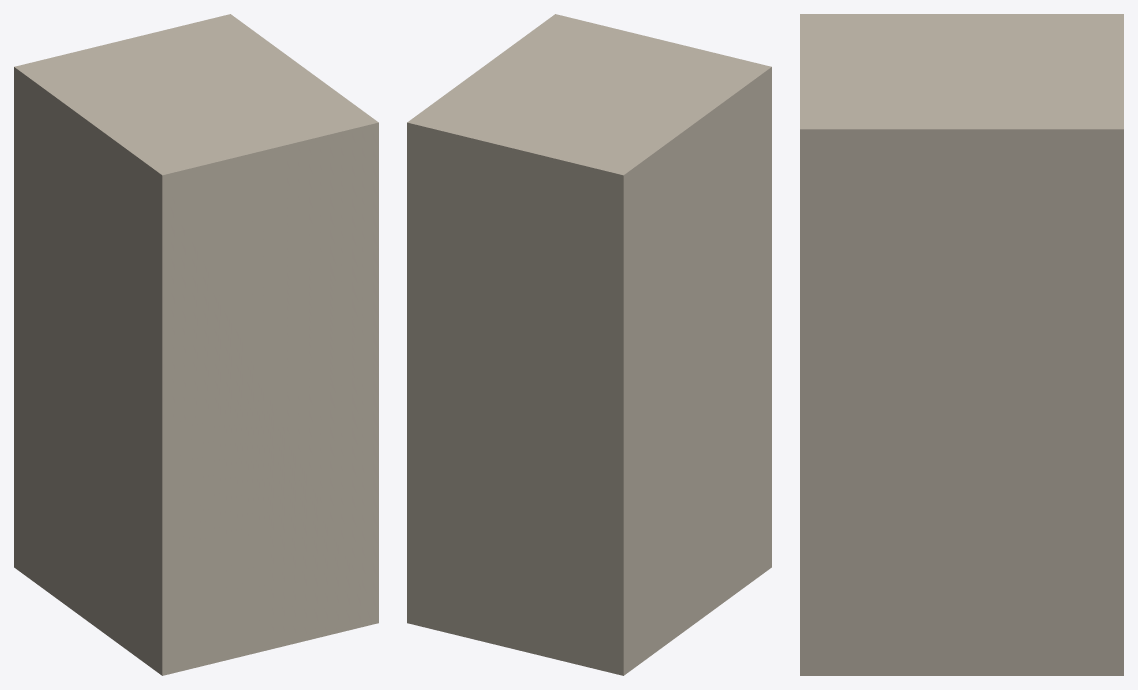
The model's file is ikea-ekedalen-20340809-g2-proxy.glb.
The picture shows the model from 3 angles, left to right: view 1: azimuth 30°, elevation 25°; view 2: azimuth 150°, elevation 25°; view 3: azimuth 270°, elevation 25°; orthographic projection. The views are drawn at different scales.
Parts seen in each view (by area): view 1: proxy_body; view 2: proxy_body; view 3: proxy_body.
Part boxes in pixels (box(x1,y1,x2,y2)): proxy_body: box(14, 14, 378, 675); proxy_body: box(407, 14, 771, 675); proxy_body: box(800, 14, 1123, 675).
Bounding box in the file's own units: 0.43 × 0.95 × 0.51.
